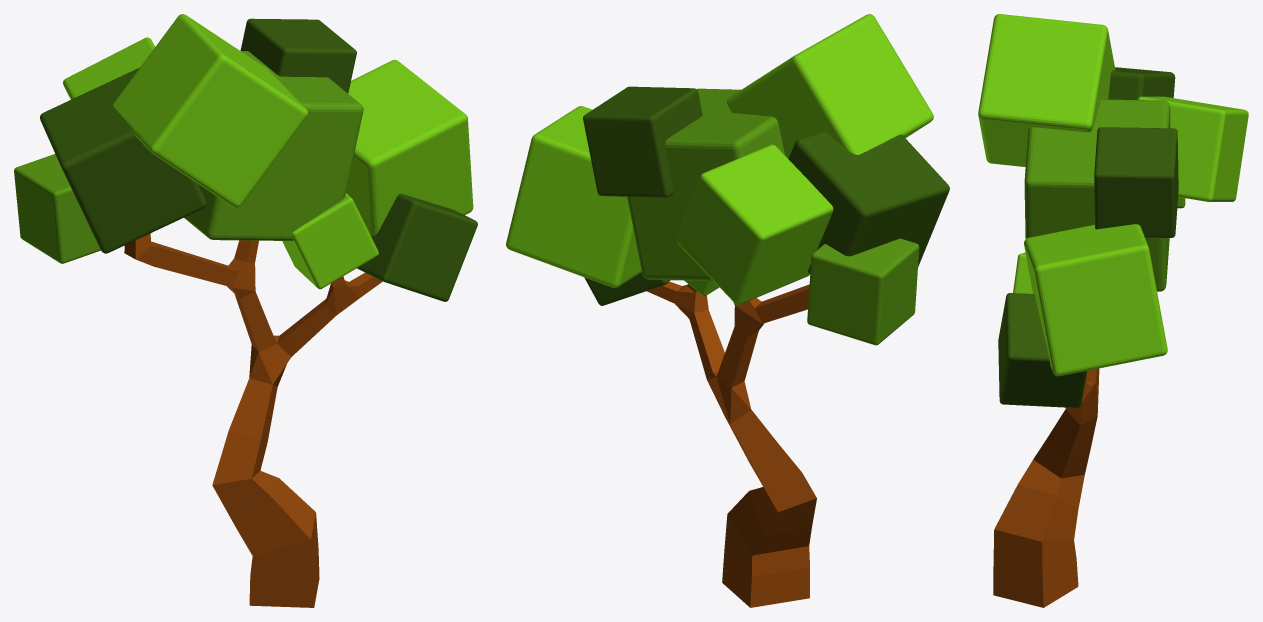
File: Medium Cube Tree.fbx
3 views of the same model, side by side, from view 1: azimuth 30°, elevation 25°; view 2: azimuth 150°, elevation 25°; view 3: azimuth 270°, elevation 25° (orthographic). The views are drawn at different scales.
Visible parts, largest first — view 1: Cube; view 2: Cube; view 3: Cube.
Part boxes in pixels (x1,y1,x2,y2): Cube: (14,14,477,607); Cube: (506,14,949,607); Cube: (978,14,1248,607).
Size of what is drawn, in the model's own units: 275 by 375 by 170.
